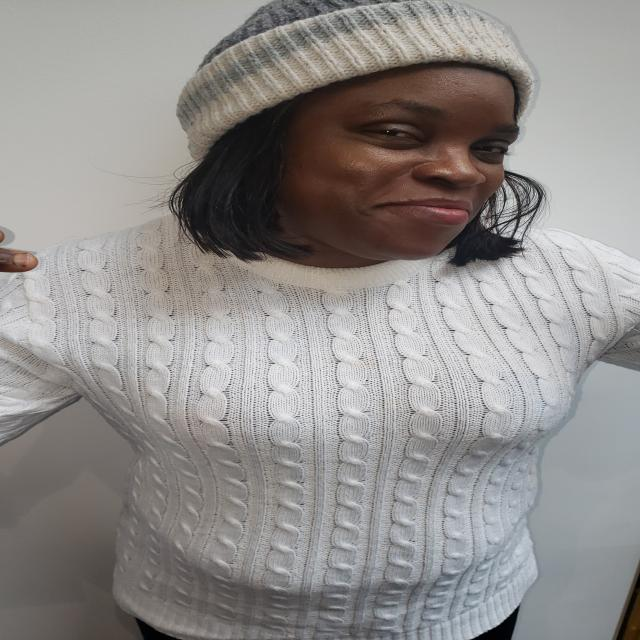happy: (200, 25, 539, 267)
